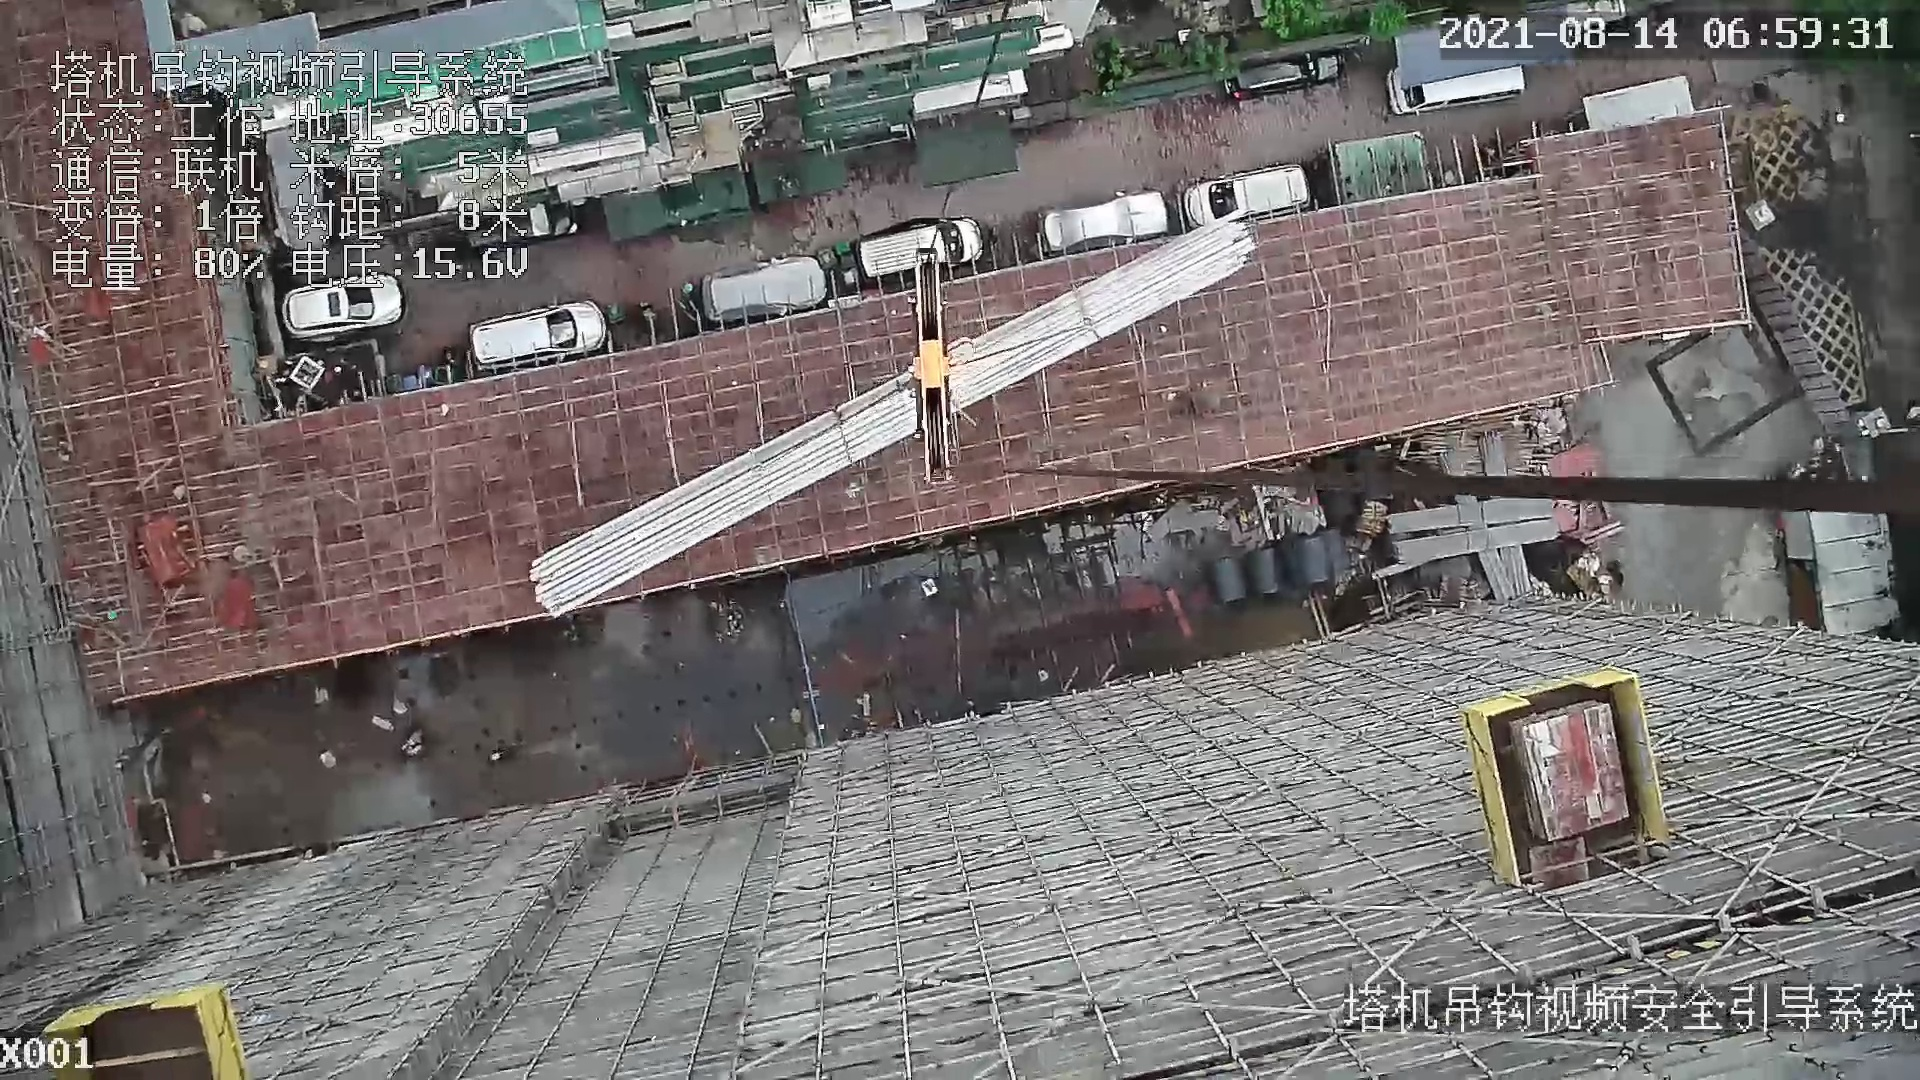board: (1509, 700, 1633, 845)
hook: (897, 244, 973, 485)
rebar: (527, 216, 1251, 616), (1439, 451, 1516, 599), (1480, 433, 1530, 592), (1394, 518, 1557, 564), (1389, 498, 1553, 535)
wood: (1356, 498, 1389, 535)
